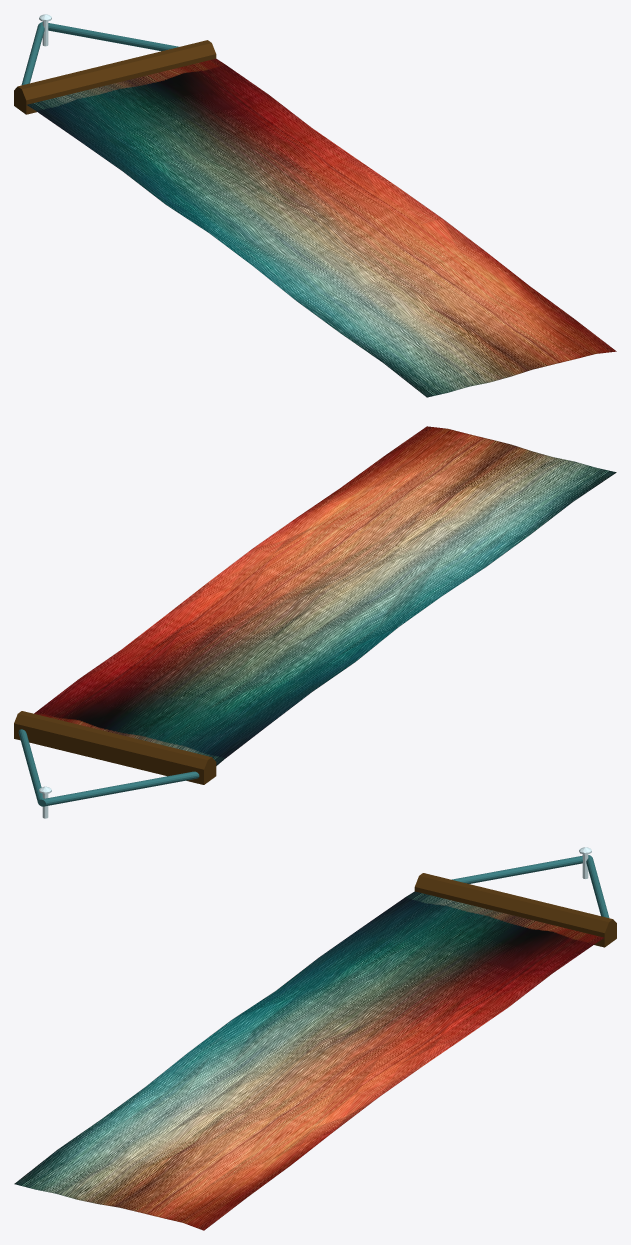
The model's file is BannerN.fbx.
The picture shows the model from 3 angles, top to bottom: view 1: azimuth 30°, elevation 25°; view 2: azimuth 150°, elevation 25°; view 3: azimuth 330°, elevation 25°; orthographic projection.
Visible parts, largest first — view 1: Grid, Grid.001, Cylinder.001; view 2: Grid, Grid.001, Cylinder.001; view 3: Grid, Grid.001, Cylinder.001.
Boxes of the visible parts, bbox=[...] form: Grid: bbox=[27, 58, 616, 397]; Grid.001: bbox=[14, 40, 216, 114]; Cylinder.001: bbox=[21, 22, 179, 85]; Grid: bbox=[34, 426, 616, 765]; Grid.001: bbox=[14, 711, 216, 784]; Cylinder.001: bbox=[18, 729, 199, 806]; Grid: bbox=[14, 891, 604, 1230]; Grid.001: bbox=[414, 873, 616, 947]; Cylinder.001: bbox=[452, 855, 609, 917].
Bounding box in the file's own units: 200 × 31.36 × 875.
Materials: 4 (1 with a texture image).
